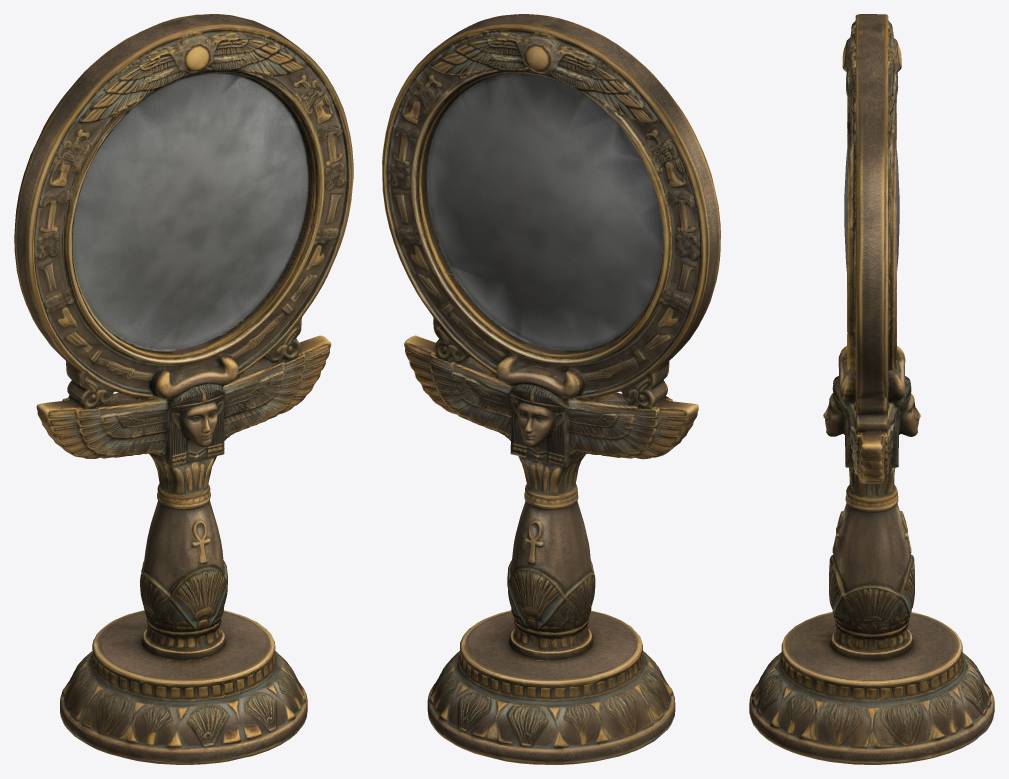
The model's file is WF_EgyptianTombV2_RitualMirror.fbx.
3 views of the same model, side by side, from view 1: azimuth 30°, elevation 25°; view 2: azimuth 150°, elevation 25°; view 3: azimuth 270°, elevation 25° (orthographic).
Visible parts, largest first — view 1: Mesh1.0; view 2: Mesh1.0; view 3: Mesh1.0.
Boxes of the visible parts, bbox=[...] form: Mesh1.0: bbox=[14, 14, 353, 764]; Mesh1.0: bbox=[382, 14, 720, 764]; Mesh1.0: bbox=[749, 14, 994, 764].
Bounding box in the file's own units: 94.36 × 191 × 62.13.
1 material, 1 textured.
